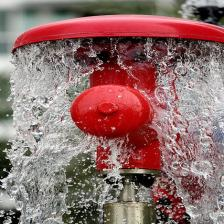red: (11, 14, 224, 53), (70, 84, 153, 138)
